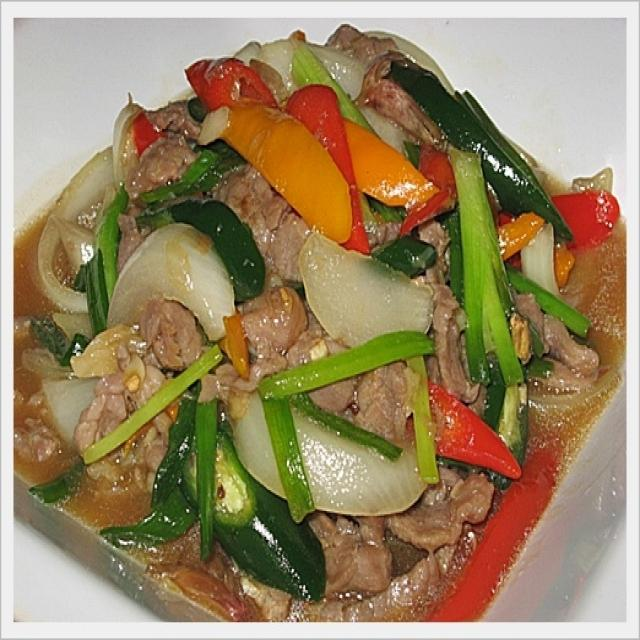牛肉菜式: (27, 39, 607, 609)
